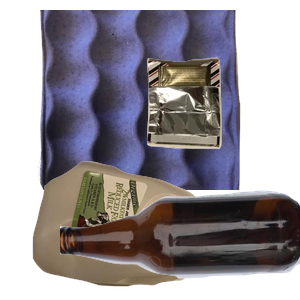glass: (60, 188, 300, 300)
paper: (35, 10, 268, 190)
plastic: (30, 159, 247, 300)
trash: (144, 55, 300, 197)
